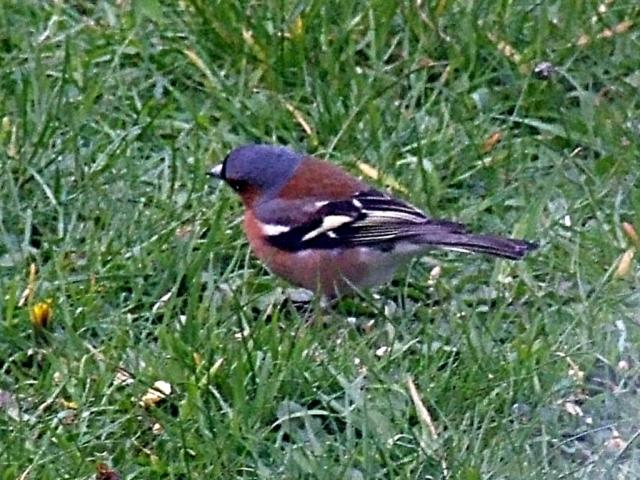Bird: (208, 143, 545, 322)
